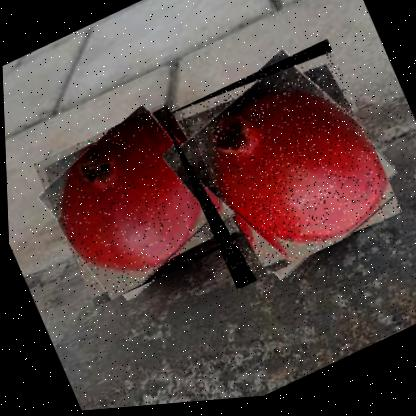pomegranate: (158, 39, 402, 298), (29, 96, 237, 313)
